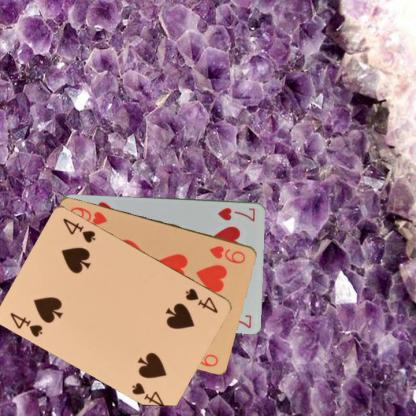4s: (182, 286, 219, 314), (7, 310, 44, 338)
7h: (216, 204, 256, 223)
9h: (207, 242, 247, 264)
